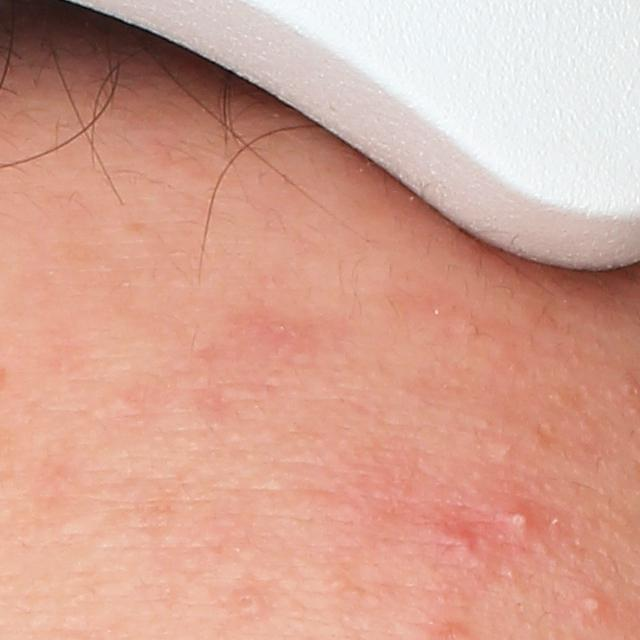comedo: (236, 588, 267, 619)
papule: (428, 515, 482, 560)
pustule: (489, 495, 544, 537)
